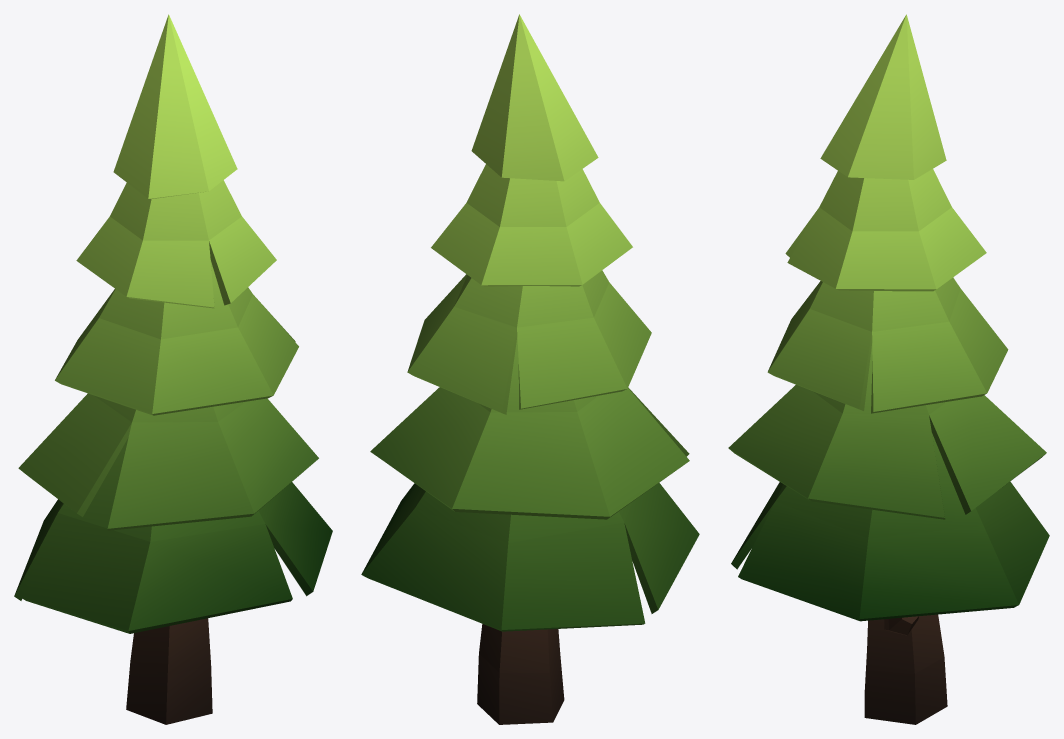
The model's file is tree_big.glb.
3 renders of one model, left to right at view 1: azimuth 30°, elevation 25°; view 2: azimuth 150°, elevation 25°; view 3: azimuth 270°, elevation 25°, orthographic.
Visible parts, largest first — view 1: tree_big; view 2: tree_big; view 3: tree_big.
Part boxes in pixels (x1,y1,x2,y2): tree_big: (14, 14, 332, 724); tree_big: (361, 14, 699, 724); tree_big: (728, 14, 1049, 724).
Size of the model in its own units: 2.68 by 6.24 by 2.63.
2 materials, 2 textured.
